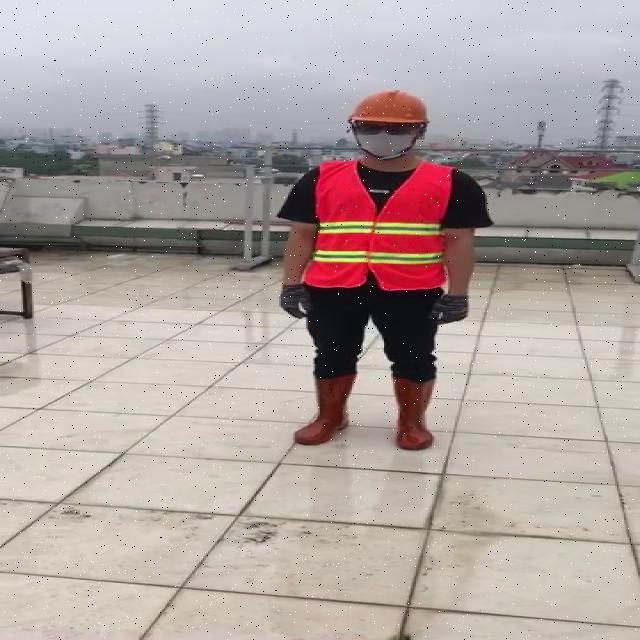Hard_hat: (342, 85, 437, 133)
Vest: (304, 156, 452, 292)
